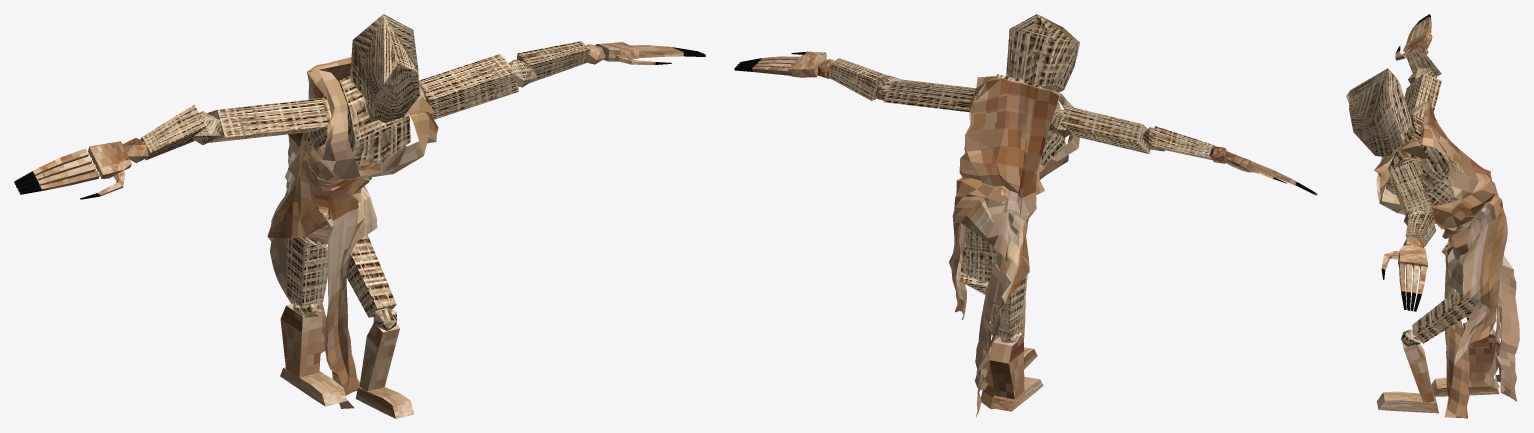
The model's file is Mole man Clothed.fbx.
The picture shows the model from 3 angles, left to right: view 1: azimuth 30°, elevation 25°; view 2: azimuth 150°, elevation 25°; view 3: azimuth 270°, elevation 25°; orthographic projection. The views are drawn at different scales.
Parts seen in each view (by area): view 1: Plane, Cube.001, Cube.003, Cube.021, Cube.002, Cube.016, Cube.017, Cube.013, Cube.014, Cube.011, Cube.006, Cube.018 (+2 smaller); view 2: Plane, Cube.001, Cube.021, Cube.003, Cube.017, Cube.006, Cube.016, Cube.011, Cube.020, Cube.018, Cube.002, Cube.031; view 3: Plane, Cube.001, Cube.002, Cube.013, Cube.003, Cube.017, Cube.015, Cube.021, Cube.014, Cube.006, Cube.012, Cube.018 (+6 smaller).
Boxes of the visible parts, bbox=[...] form: Plane: bbox=[267, 57, 438, 408]; Cube.001: bbox=[350, 14, 419, 122]; Cube.003: bbox=[419, 54, 518, 119]; Cube.021: bbox=[207, 98, 328, 142]; Cube.002: bbox=[322, 75, 410, 166]; Cube.016: bbox=[286, 237, 327, 307]; Cube.017: bbox=[280, 303, 322, 377]; Cube.013: bbox=[347, 235, 396, 317]; Cube.014: bbox=[359, 323, 399, 391]; Cube.011: bbox=[140, 105, 205, 160]; Cube.006: bbox=[516, 41, 590, 82]; Cube.018: bbox=[280, 367, 347, 406]; Plane: bbox=[949, 76, 1079, 417]; Cube.001: bbox=[1006, 14, 1079, 92]; Cube.021: bbox=[1060, 105, 1150, 154]; Cube.003: bbox=[884, 79, 976, 112]; Cube.017: bbox=[989, 336, 1024, 399]; Cube.006: bbox=[828, 58, 887, 100]; Cube.016: bbox=[990, 274, 1027, 338]; Cube.011: bbox=[1151, 126, 1216, 160]; Cube.020: bbox=[960, 246, 1005, 282]; Cube.018: bbox=[991, 376, 1043, 411]; Cube.002: bbox=[996, 74, 1065, 166]; Cube.031: bbox=[788, 54, 826, 77]; Plane: bbox=[1374, 100, 1519, 418]; Cube.001: bbox=[1346, 68, 1411, 156]; Cube.002: bbox=[1384, 115, 1449, 194]; Cube.013: bbox=[1412, 290, 1475, 343]; Cube.003: bbox=[1390, 162, 1435, 224]; Cube.017: bbox=[1468, 328, 1500, 385]; Cube.015: bbox=[1377, 391, 1438, 413]; Cube.021: bbox=[1404, 73, 1441, 119]; Cube.014: bbox=[1402, 343, 1433, 402]; Cube.006: bbox=[1405, 213, 1436, 246]; Cube.012: bbox=[1428, 148, 1466, 206]; Cube.018: bbox=[1431, 377, 1499, 396].
Size of the model in its own units: 317 by 190 by 85.62.
4 materials, 3 textured.
